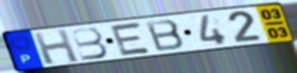2: (229, 9, 266, 45)
4: (198, 13, 229, 47)
B: (143, 18, 187, 53), (69, 26, 110, 62)
E: (108, 21, 154, 58)
H: (31, 27, 82, 66)
